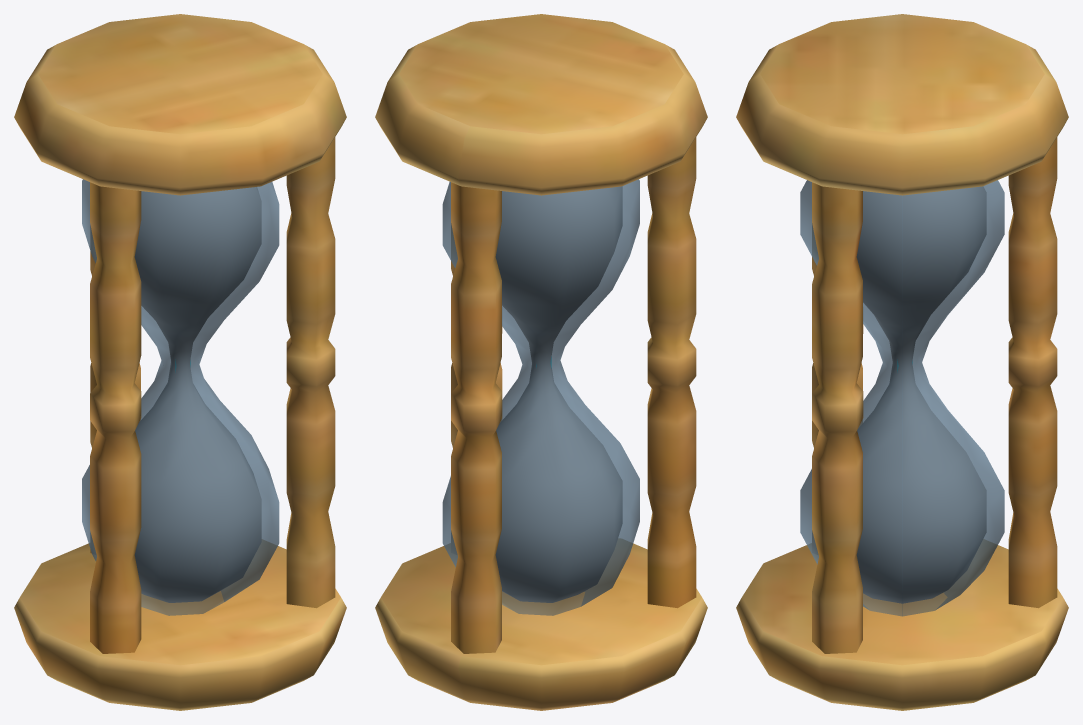
The picture shows the model from 3 angles, left to right: view 1: azimuth 30°, elevation 25°; view 2: azimuth 150°, elevation 25°; view 3: azimuth 270°, elevation 25°; orthographic projection.
Size of the model in its own units: 3.5 by 6.68 by 3.5.
3 materials, 2 textured.
